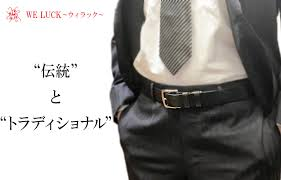F_belt: (135, 72, 262, 115)
